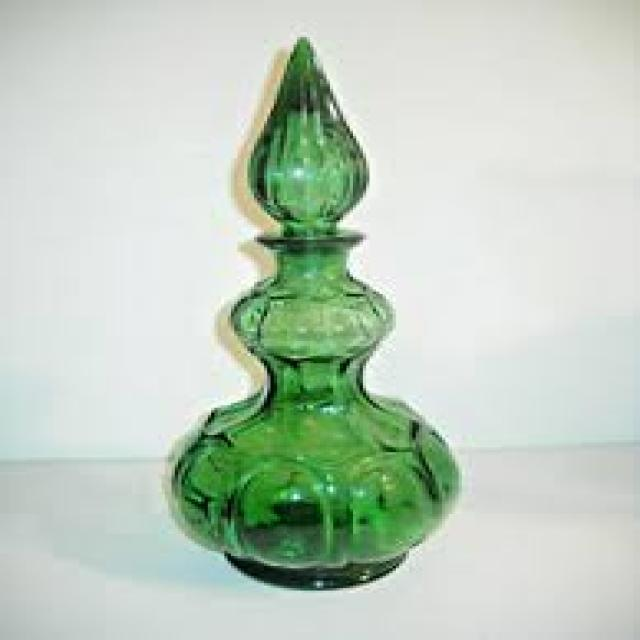glass: (169, 35, 456, 588)
